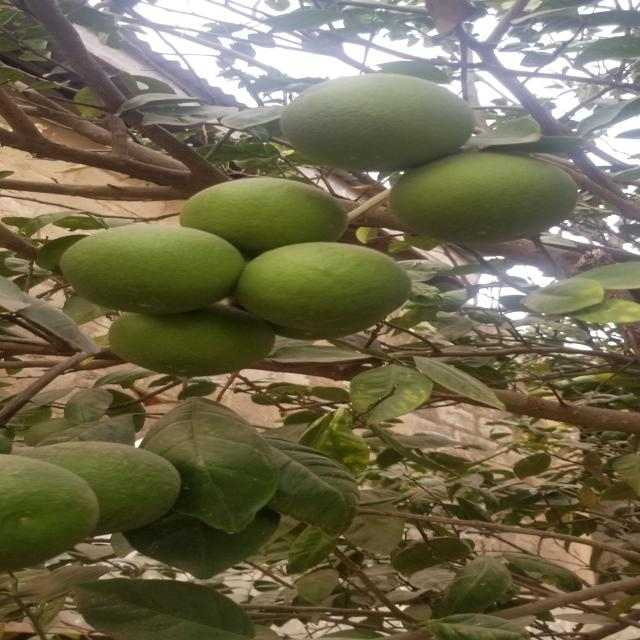Unripe: (379, 135, 584, 251), (271, 68, 480, 172), (49, 218, 258, 318), (29, 434, 200, 544), (229, 243, 421, 336), (173, 171, 349, 262)
